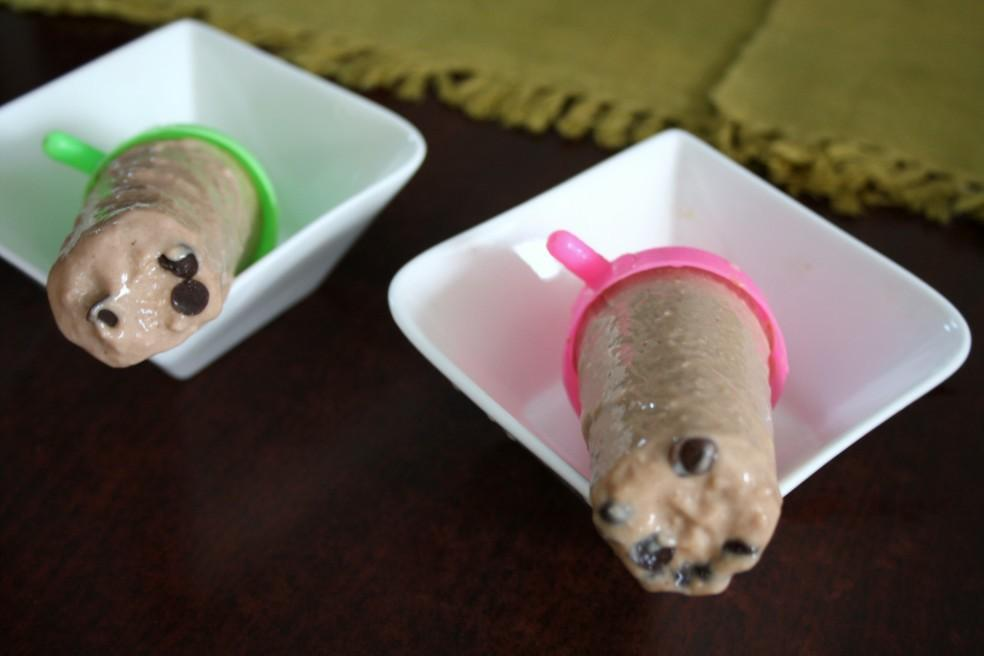Kulfi: (577, 270, 781, 596), (47, 137, 259, 367)
